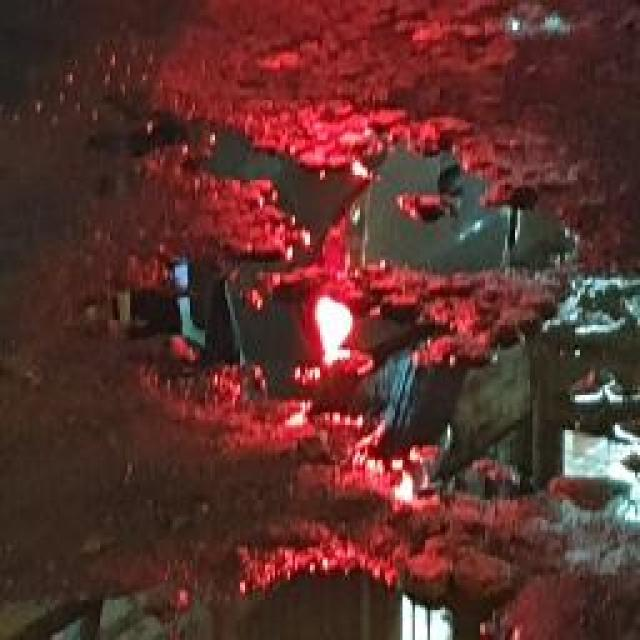puddle: (92, 103, 640, 516), (1, 573, 530, 640)
